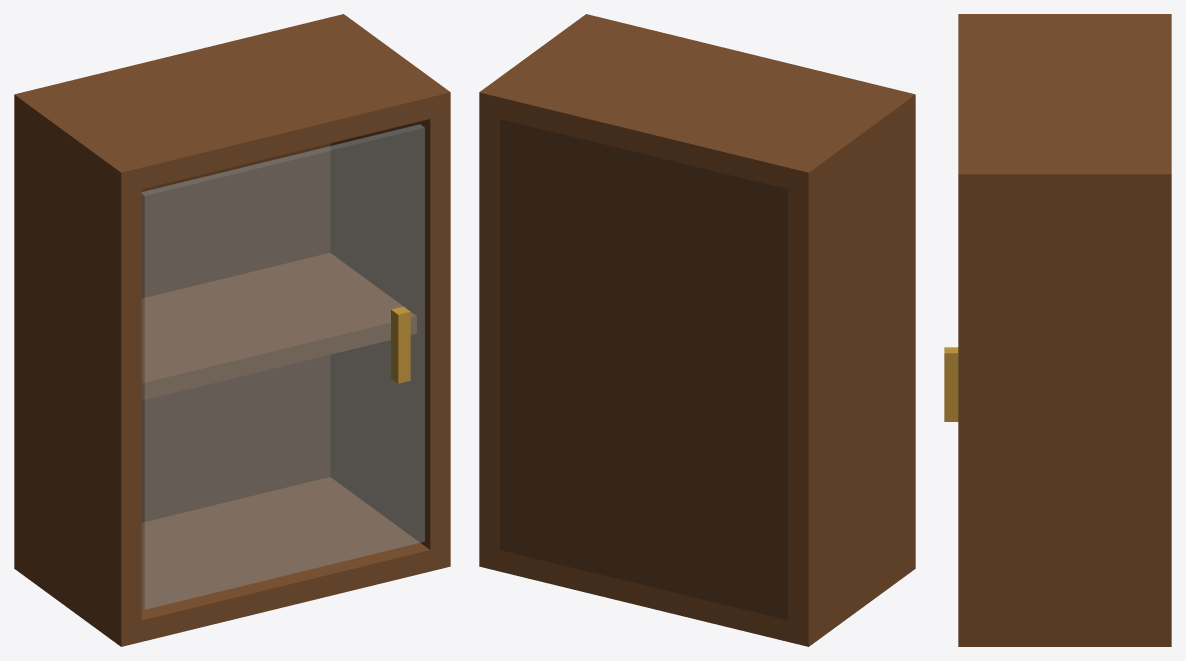
The model's file is cabinet.glb.
The picture shows the model from 3 angles, left to right: view 1: azimuth 30°, elevation 25°; view 2: azimuth 150°, elevation 25°; view 3: azimuth 270°, elevation 25°; orthographic projection.
Parts seen in each view (by area): view 1: Glass_Door, Wood_SideLeft, Wood_Back, Wood_Top, Wood_SideRight, Wood_Bottom, Wood_Shelf, Metal_Handle; view 2: Wood_Back, Wood_SideLeft, Wood_Top, Wood_Bottom, Wood_SideRight; view 3: Wood_SideRight, Wood_Top, Wood_Bottom, Metal_Handle.
Boxes of the visible parts, x1=… form: Glass_Door: x1=142, y1=124, x2=424, y2=609; Wood_SideLeft: x1=14, y1=116, x2=141, y2=625; Wood_Back: x1=141, y1=143, x2=330, y2=522; Wood_Top: x1=14, y1=14, x2=450, y2=194; Wood_SideRight: x1=330, y1=114, x2=450, y2=549; Wood_Bottom: x1=14, y1=477, x2=450, y2=646; Wood_Shelf: x1=141, y1=253, x2=416, y2=400; Metal_Handle: x1=391, y1=306, x2=410, y2=383; Wood_Back: x1=499, y1=119, x2=788, y2=620; Wood_SideLeft: x1=788, y1=116, x2=915, y2=625; Wood_Top: x1=479, y1=14, x2=915, y2=194; Wood_Bottom: x1=479, y1=545, x2=915, y2=646; Wood_SideRight: x1=479, y1=114, x2=499, y2=549; Wood_SideRight: x1=958, y1=195, x2=1171, y2=625; Wood_Top: x1=958, y1=14, x2=1171, y2=195; Wood_Bottom: x1=958, y1=625, x2=1171, y2=646; Metal_Handle: x1=944, y1=347, x2=958, y2=421.
Size of the model in its own units: 0.8 by 1.1 by 0.48.
